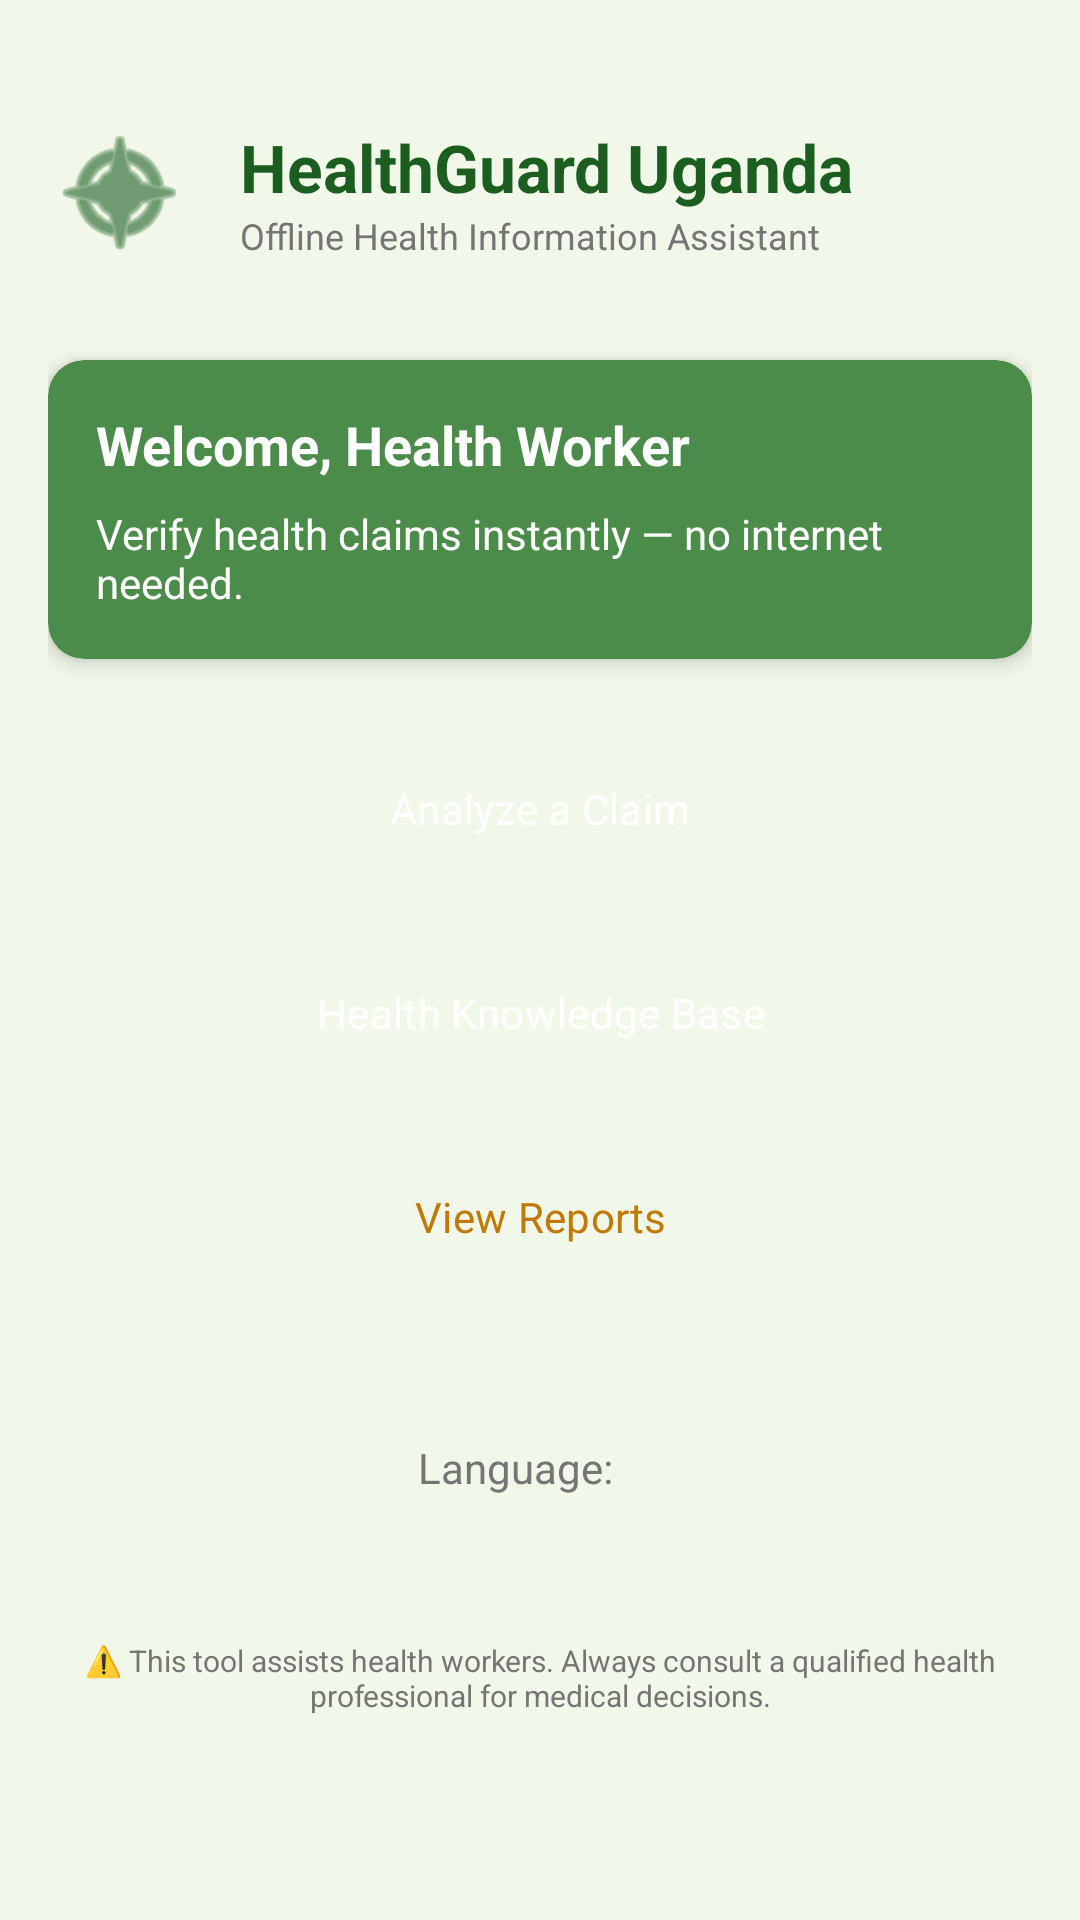

Where icons sit on this 1080x1920 app screen, as (x1, y1, x2, y2):
compass: (63, 136, 176, 249)
